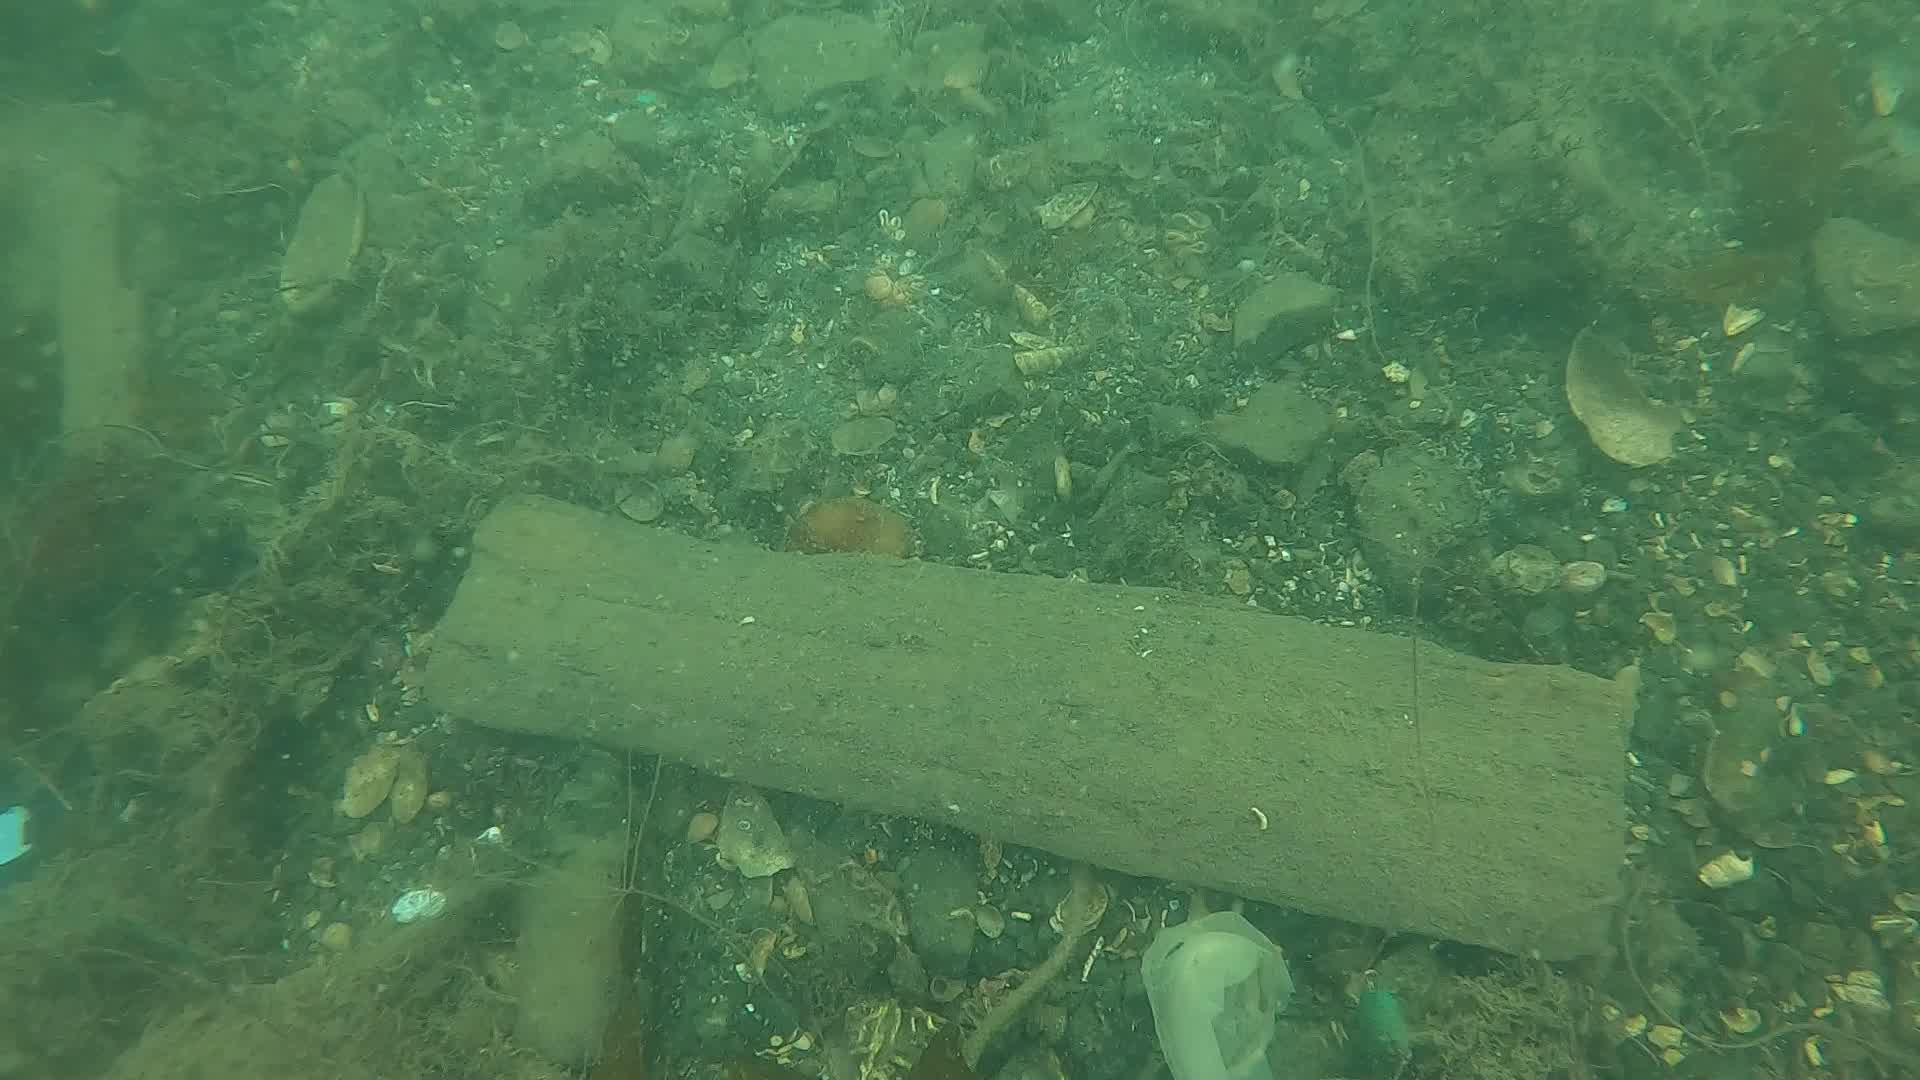wood: (413, 487, 1638, 971)
